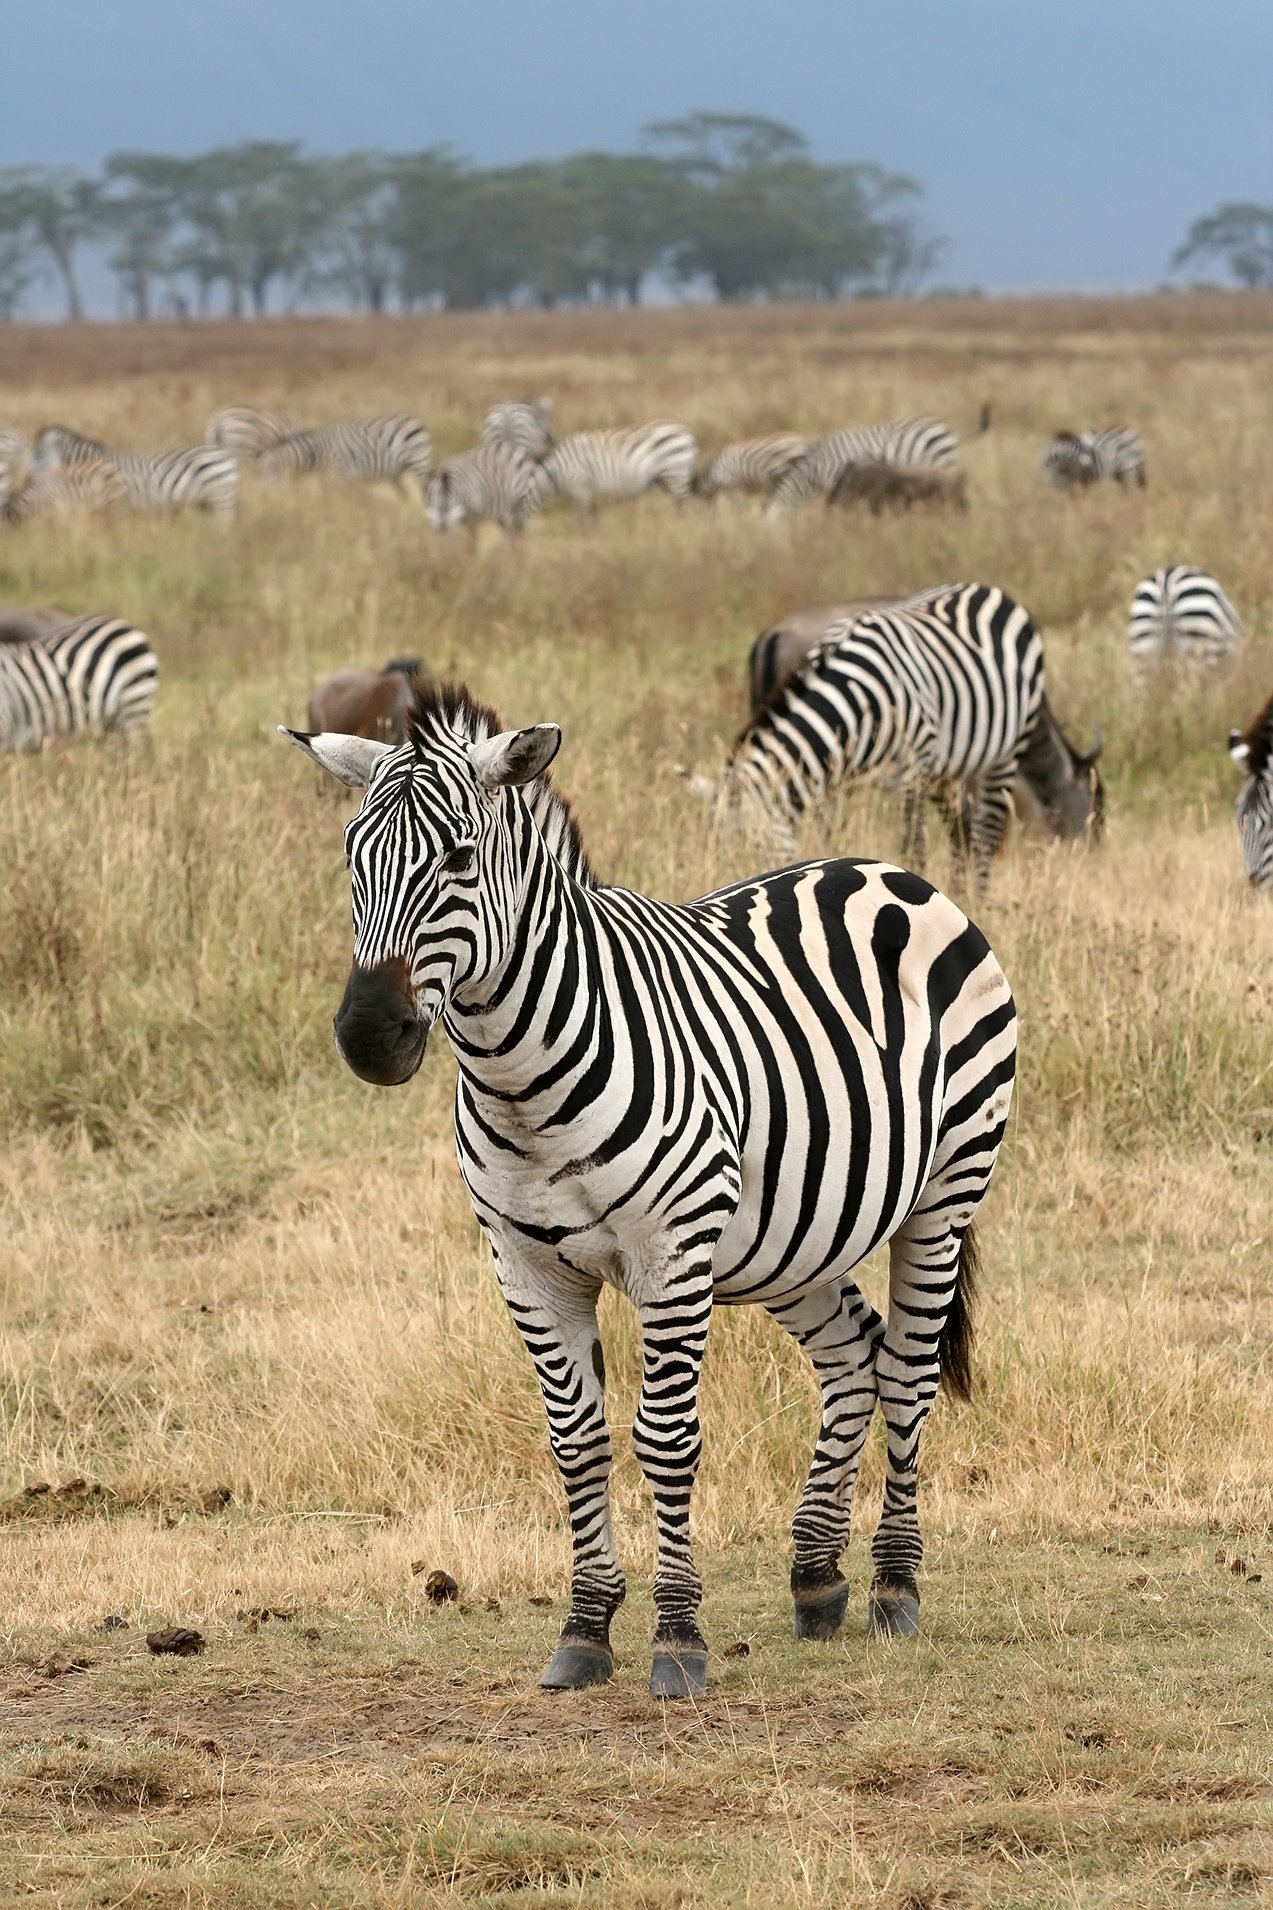zebra: (294, 694, 1024, 1731)
